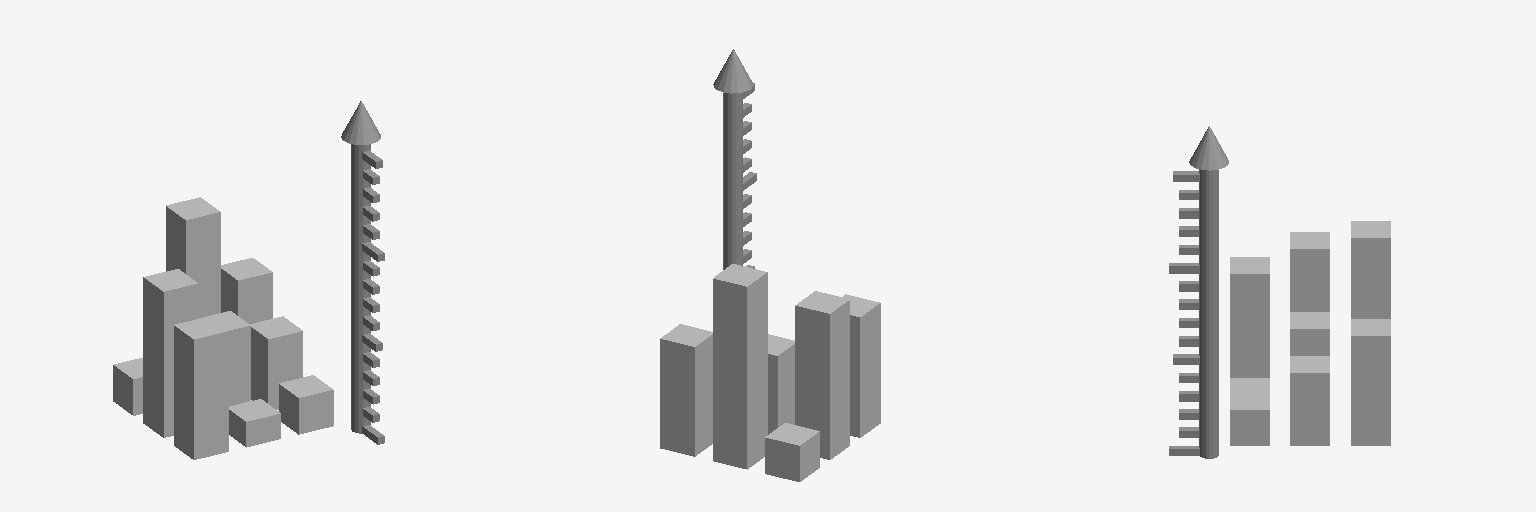
The model's file is Icon3D1Ord2Nom.obj.
3 renders of one model, left to right at view 1: azimuth 30°, elevation 25°; view 2: azimuth 150°, elevation 25°; view 3: azimuth 270°, elevation 25°, orthographic.
Visible parts, largest first — view 1: Cube.012_Cube.013, Cube.006_Cube.016, Cube.007_Cube.017, Cube.003_Cube.013, Cube.001_Cube.011, Cube.002_Cube.012, Cube_Cube.010, Cube.004_Cube.014, Cube.005_Cube.015, Cube.008_Cube.018; view 2: Cube.003_Cube.013, Cube.007_Cube.017, Cube.002_Cube.012, Cube.012_Cube.013, Cube.006_Cube.016, Cube.008_Cube.018, Cube.004_Cube.014; view 3: Cube.012_Cube.013, Cube.002_Cube.012, Cube.006_Cube.016, Cube.003_Cube.013, Cube.001_Cube.011, Cube.007_Cube.017, Cube_Cube.010, Cube.004_Cube.014, Cube.005_Cube.015.
Boxes of the visible parts, x1,y1,x2,y2 form: Cube.012_Cube.013: [341, 101, 384, 444]; Cube.006_Cube.016: [174, 316, 228, 459]; Cube.007_Cube.017: [143, 269, 198, 437]; Cube.003_Cube.013: [166, 197, 220, 317]; Cube.001_Cube.011: [250, 316, 302, 409]; Cube.002_Cube.012: [221, 258, 272, 323]; Cube_Cube.010: [279, 375, 333, 434]; Cube.004_Cube.014: [199, 311, 250, 405]; Cube.005_Cube.015: [229, 399, 280, 447]; Cube.008_Cube.018: [113, 358, 142, 415]; Cube.003_Cube.013: [713, 264, 767, 469]; Cube.007_Cube.017: [795, 291, 849, 459]; Cube.002_Cube.012: [660, 324, 712, 456]; Cube.012_Cube.013: [713, 49, 756, 269]; Cube.006_Cube.016: [843, 294, 880, 437]; Cube.008_Cube.018: [765, 423, 819, 481]; Cube.004_Cube.014: [768, 334, 794, 434]; Cube.012_Cube.013: [1169, 126, 1228, 458]; Cube.002_Cube.012: [1351, 319, 1390, 445]; Cube.006_Cube.016: [1230, 257, 1269, 377]; Cube.003_Cube.013: [1351, 221, 1390, 318]; Cube.001_Cube.011: [1290, 356, 1329, 445]; Cube.007_Cube.017: [1290, 232, 1329, 311]; Cube_Cube.010: [1230, 393, 1269, 445]; Cube.004_Cube.014: [1290, 312, 1329, 355]; Cube.005_Cube.015: [1230, 378, 1269, 392].
Size of the model in its own units: 0.1 by 0.18 by 0.11.